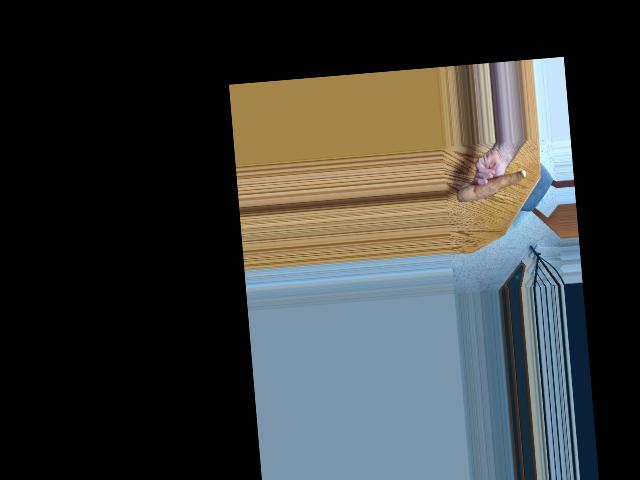sweet_potato: (457, 169, 530, 207)
